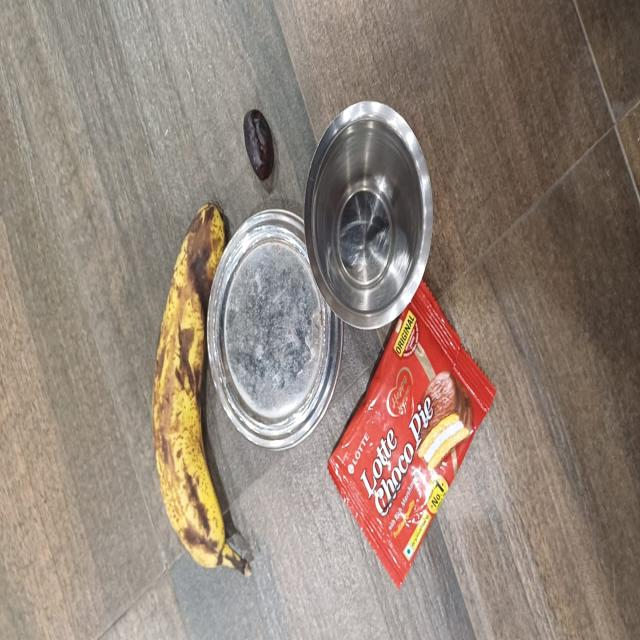Banana-Bio: (126, 200, 258, 587)
Date-Bio: (244, 107, 278, 190)
Plastic-NonBio: (329, 268, 496, 584)
Steel-NonBio: (206, 203, 343, 450), (304, 101, 433, 334)
